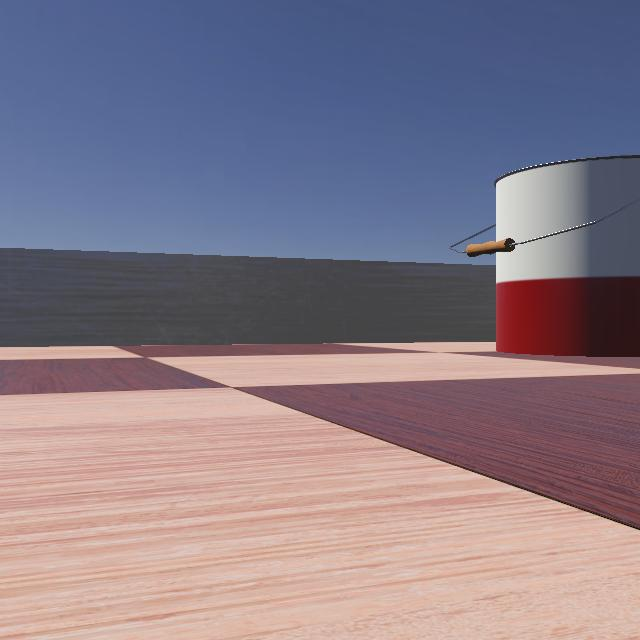paint-bucket: (440, 142, 640, 362)
